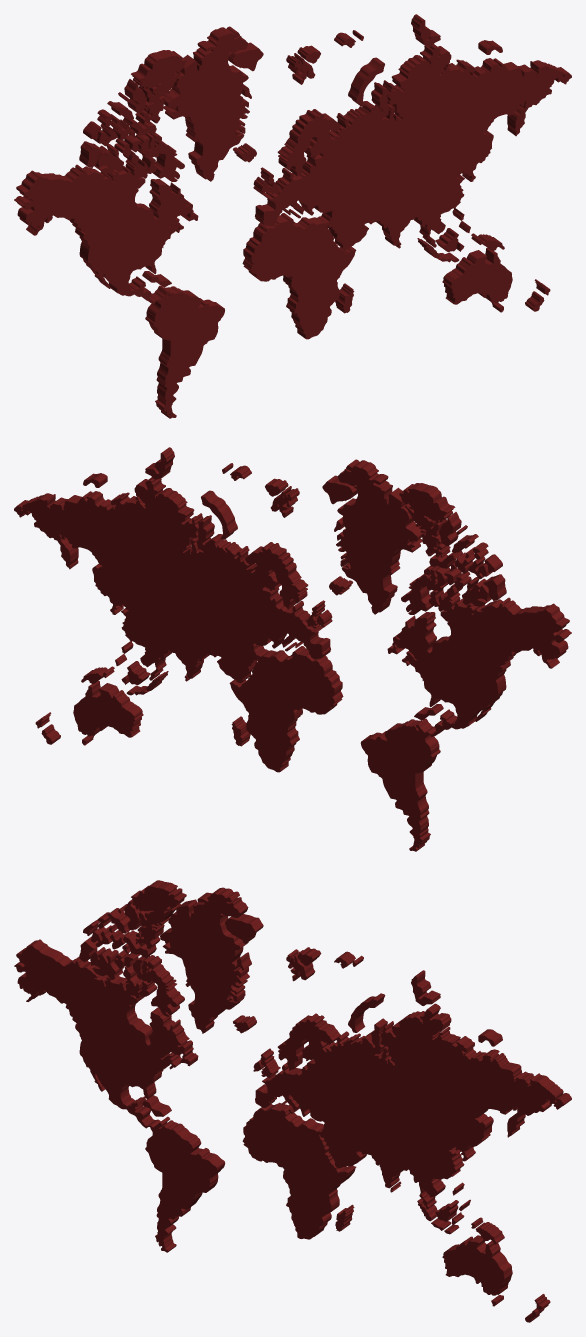
The model's file is World map.FBX.
The picture shows the model from 3 angles, top to bottom: view 1: azimuth 30°, elevation 25°; view 2: azimuth 150°, elevation 25°; view 3: azimuth 330°, elevation 25°; orthographic projection.
Parts seen in each view (by area): view 1: Word map; view 2: Word map; view 3: Word map.
Part boxes in pixels (left/top/right/bottom): Word map: left=14, top=14, right=571, bottom=418; Word map: left=14, top=447, right=571, bottom=851; Word map: left=14, top=880, right=571, bottom=1322.
Size of the model in its own units: 120 by 3.1 by 77.35.
